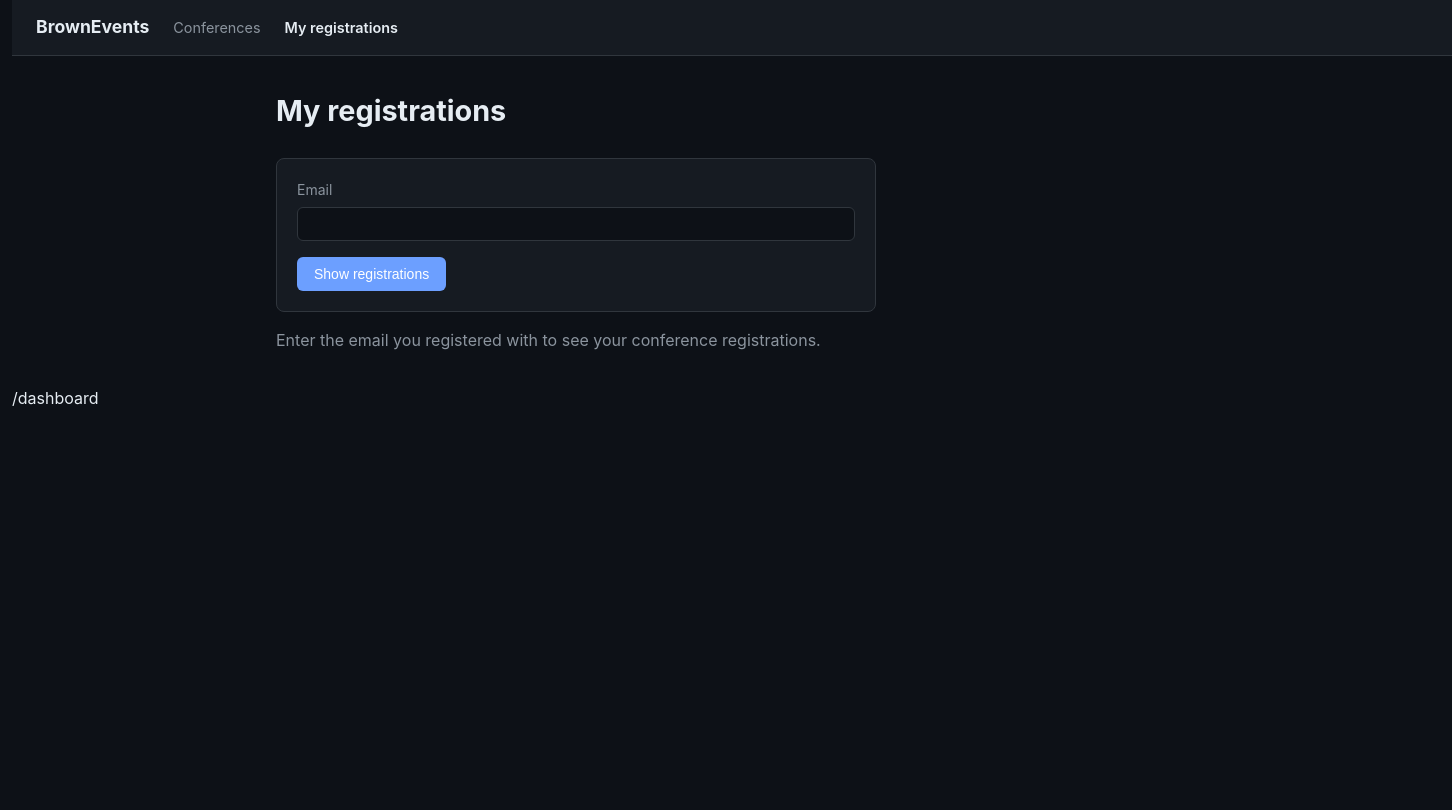
Test: looking up registrations (spec 6.2) › shows conference link, dates, registration badge and the conference status only when closed
The width and height of the screenshot is (1452, 810).
In the field labelled "Email": (576,224) [297,208,855,242], type "ann@x.example"
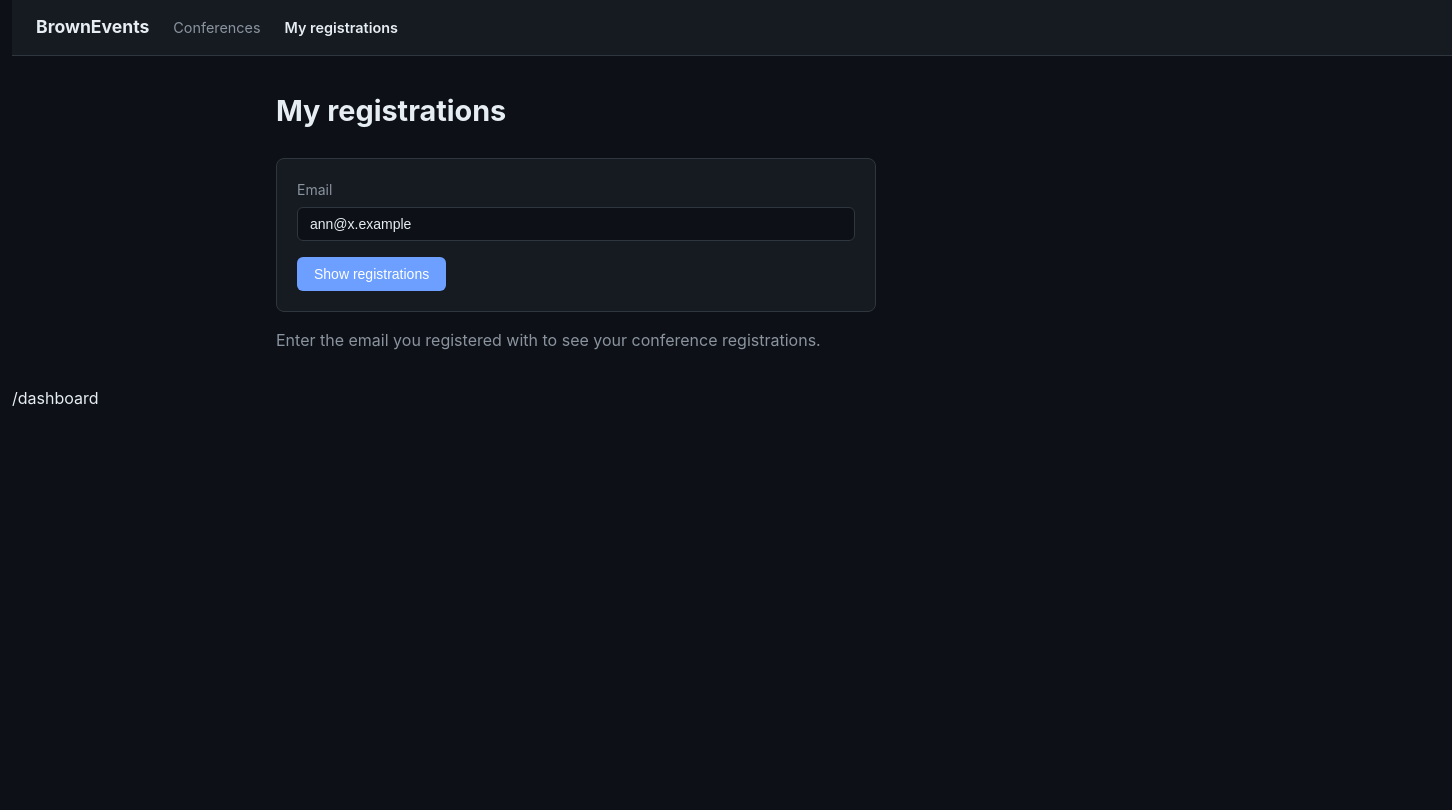
Click the button "Show registrations": (372,274) [297,258,446,292]
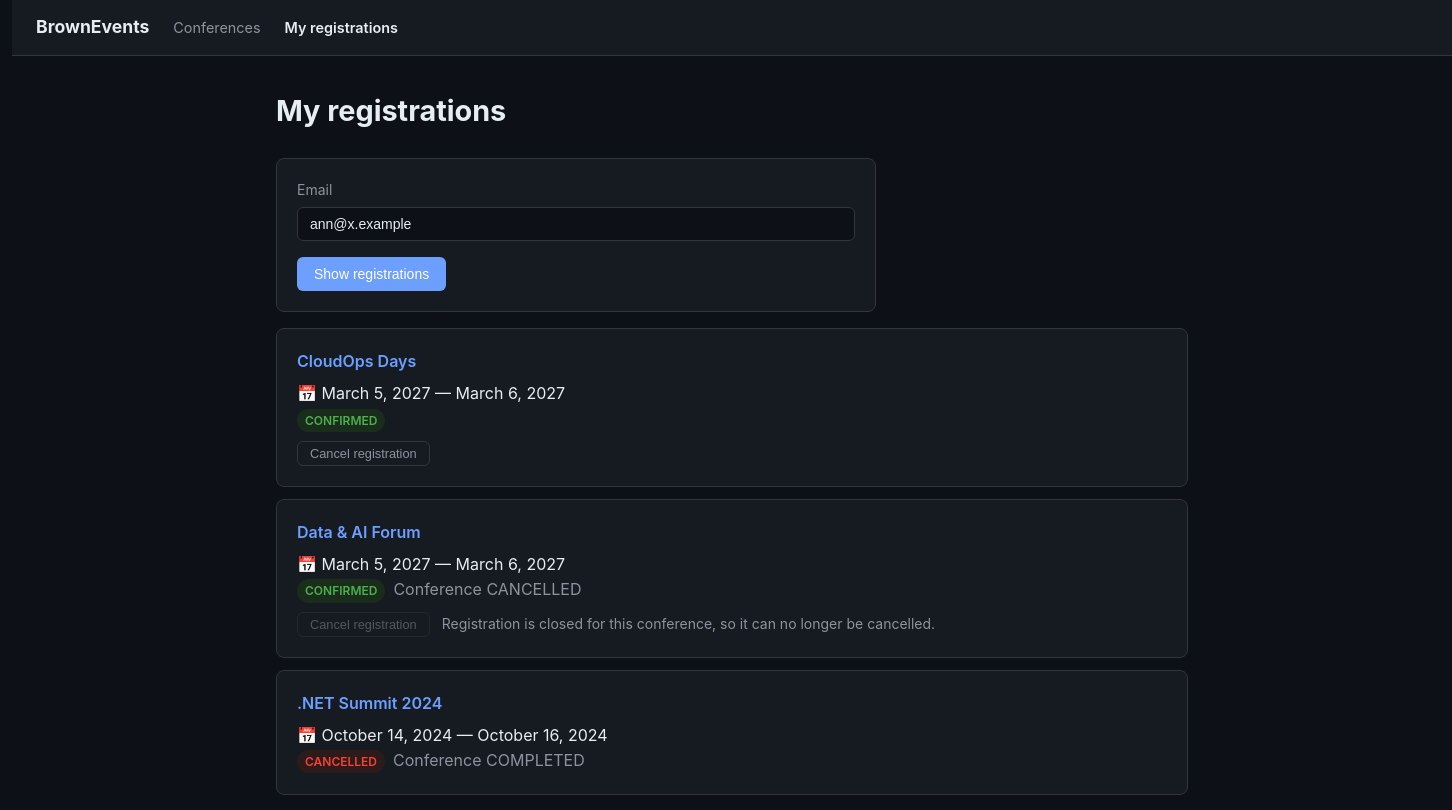
Result: the list named "Registrations" is shown at [276,328,1188,795]
Result: the text "📅 March 5, 2027 — March 6, 2027" below "CloudOps Days" is shown at [297,383,565,403]
Result: the text "Conference CANCELLED" is shown at [393,579,582,599]
